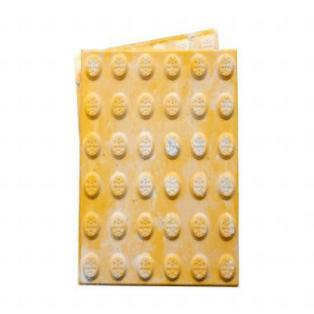Podoctatil: (82, 51, 238, 287)
